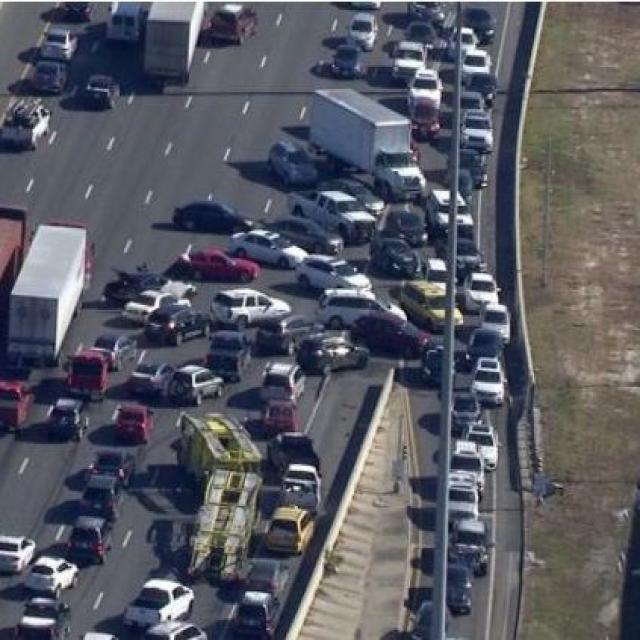traffic_incident: (315, 166, 517, 390), (97, 240, 186, 338)
